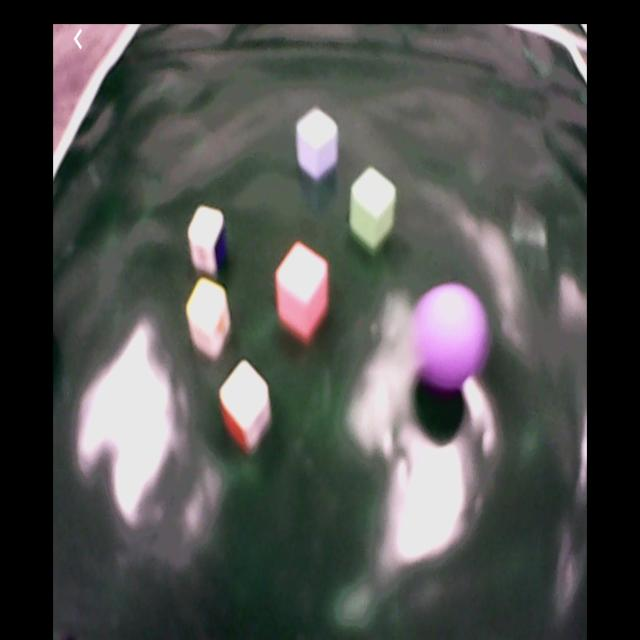ball: (418, 281, 482, 394)
